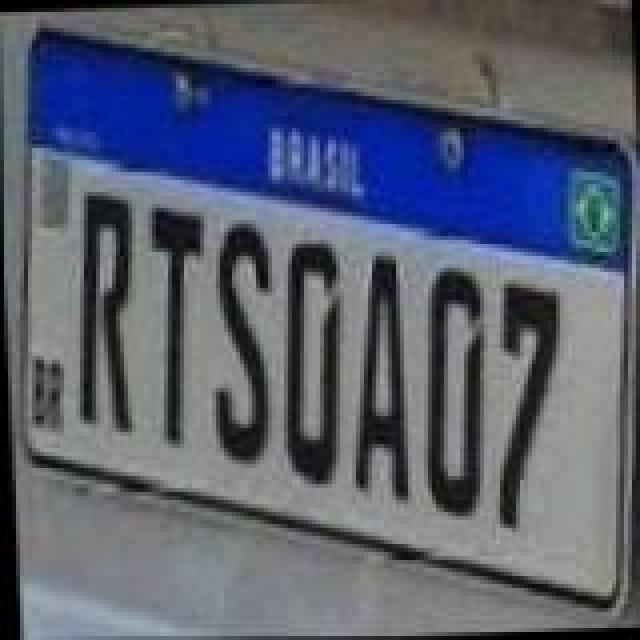7: (486, 278, 570, 530)
A: (340, 254, 408, 506)
D: (410, 266, 490, 522), (272, 232, 348, 484)
R: (66, 186, 142, 438)
S: (198, 222, 274, 470)
T: (148, 204, 212, 444)
